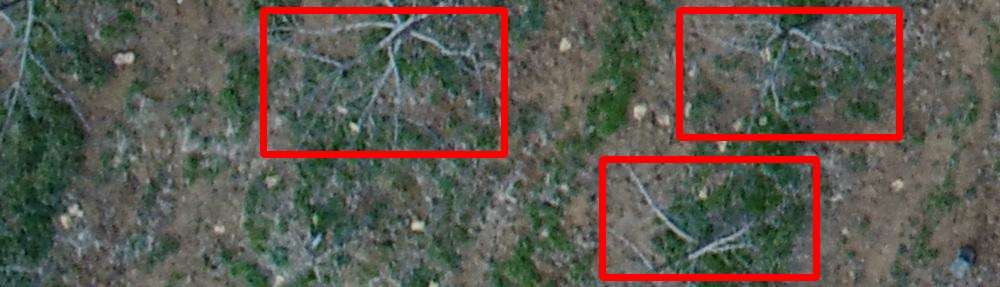apple: (263, 10, 504, 154), (679, 10, 899, 137), (602, 159, 816, 277)
